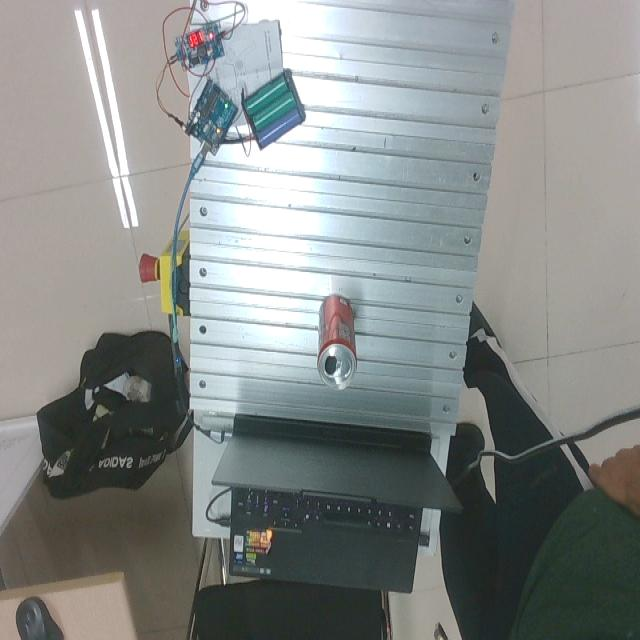coca: (316, 295, 357, 389)
